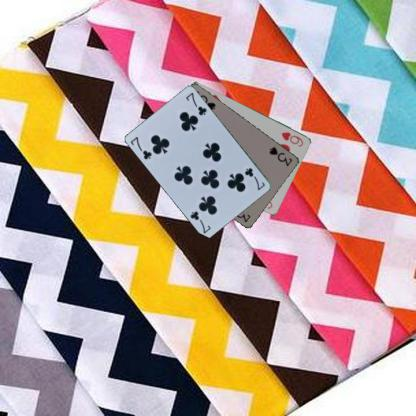3s: (267, 144, 293, 167)
6h: (279, 129, 305, 148)
7c: (128, 134, 153, 161), (242, 165, 266, 191)
